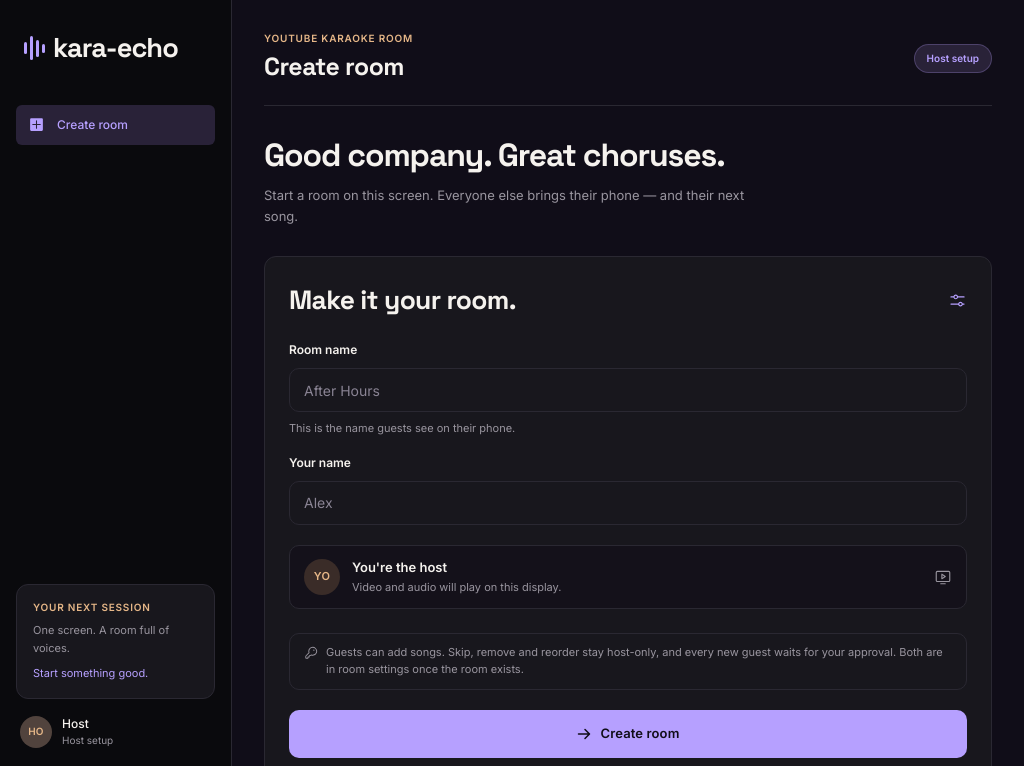
create room workspace › gives the sidebar the name being typed, never one from storage
Expected: the text "Host" is shown, [62,716,89,731]
Type "Rafa" into the field labelled "Your name". click: (628, 503)
box: [289,481,967,525]
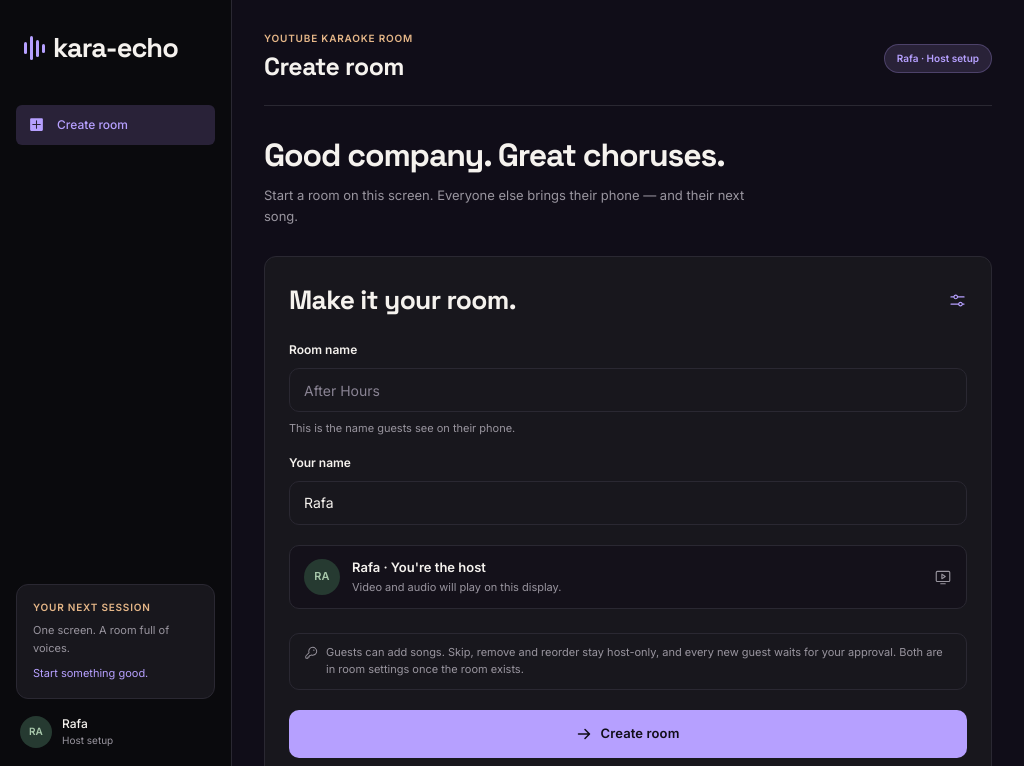
Now the text "Rafa" is shown, box [62,716,88,731]
